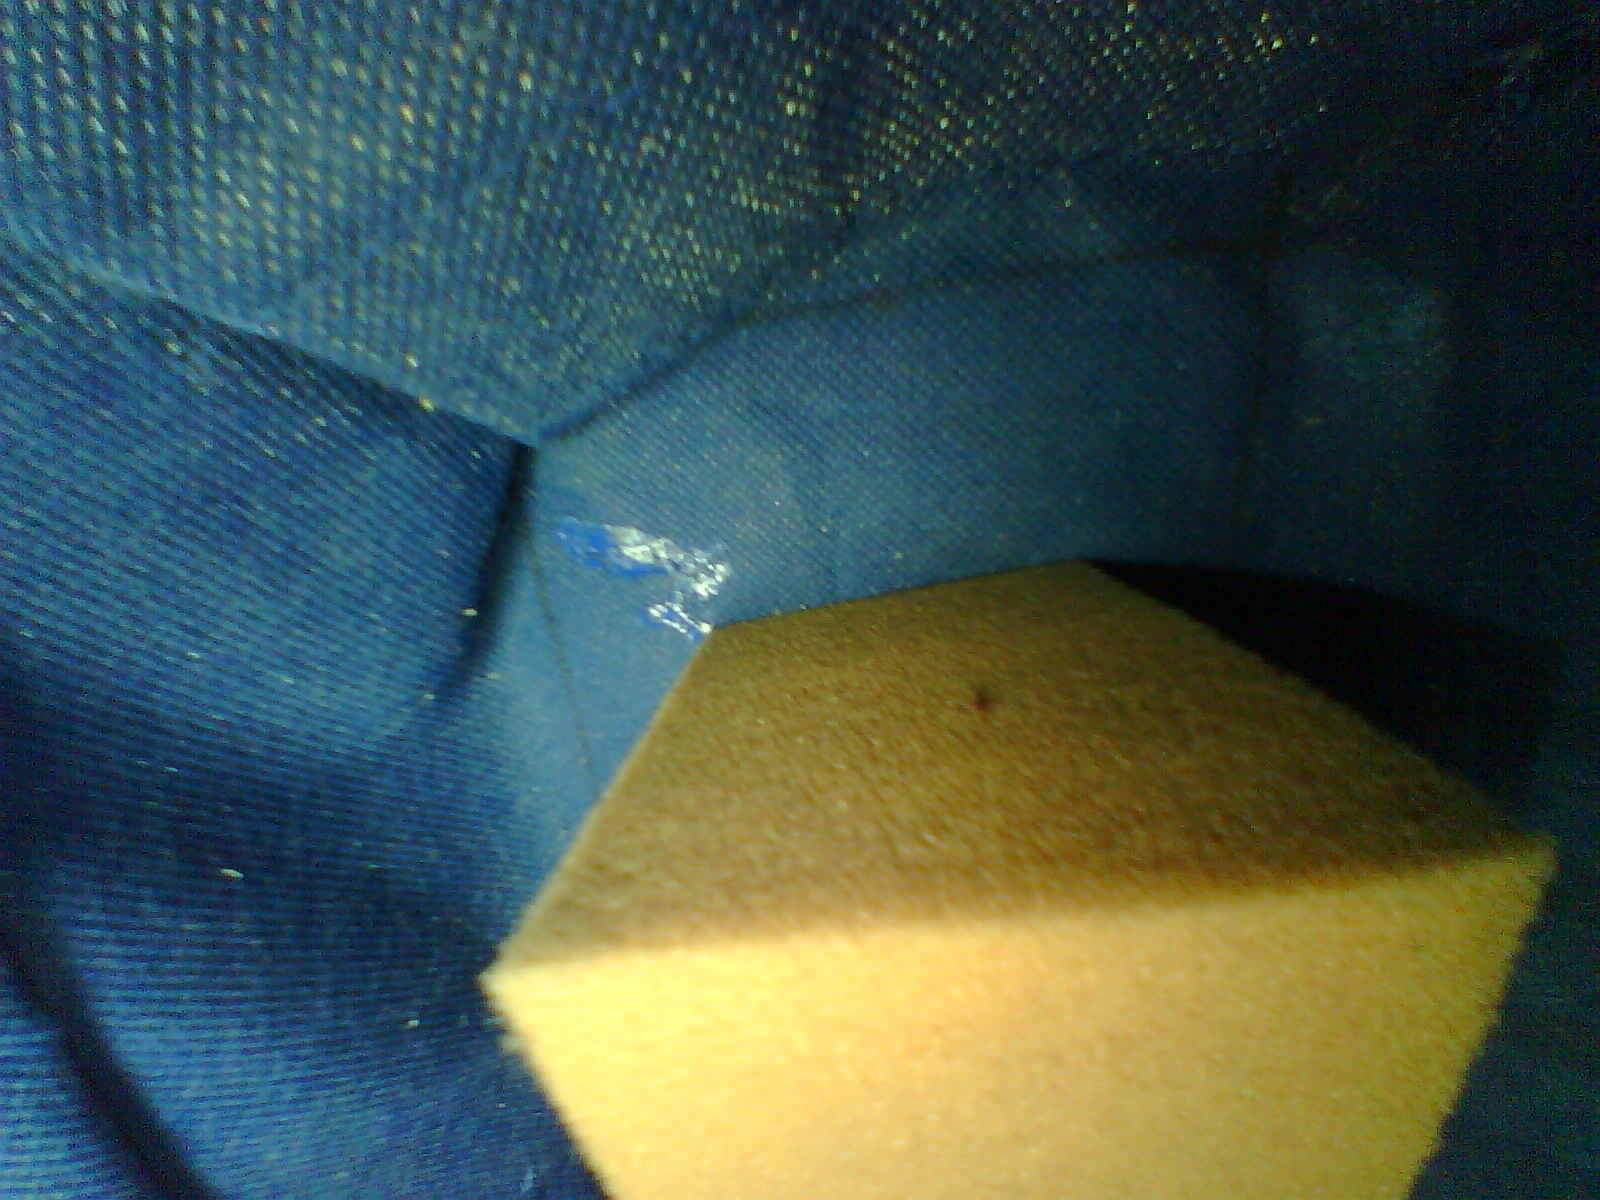cube-soft: (465, 542, 1572, 1200)
